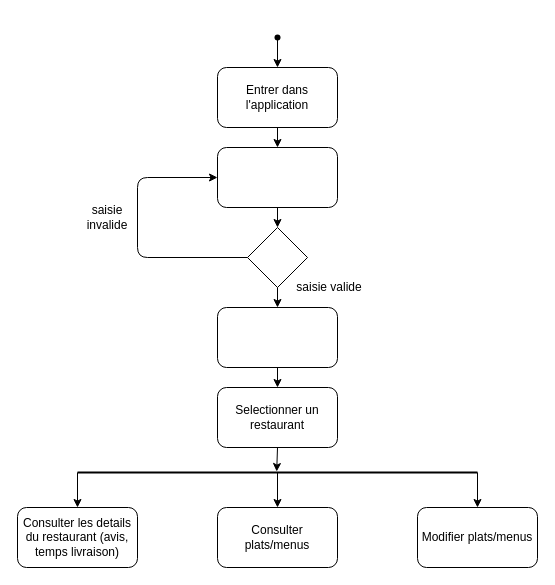
The diagram is 555 pixels wide and 585 high, and some of its shapes have lost their labels. The centre of each missing label's shape, as x and y in pixels:
"Entrer la localisation" goes at point 277,177.
"Filtrer les restaurants" goes at point 277,337.
